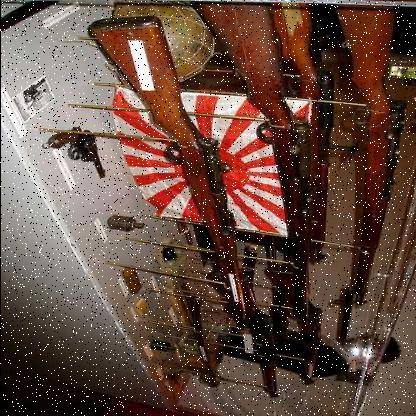rifle: (67, 22, 286, 407), (195, 0, 324, 392), (329, 0, 390, 338)
